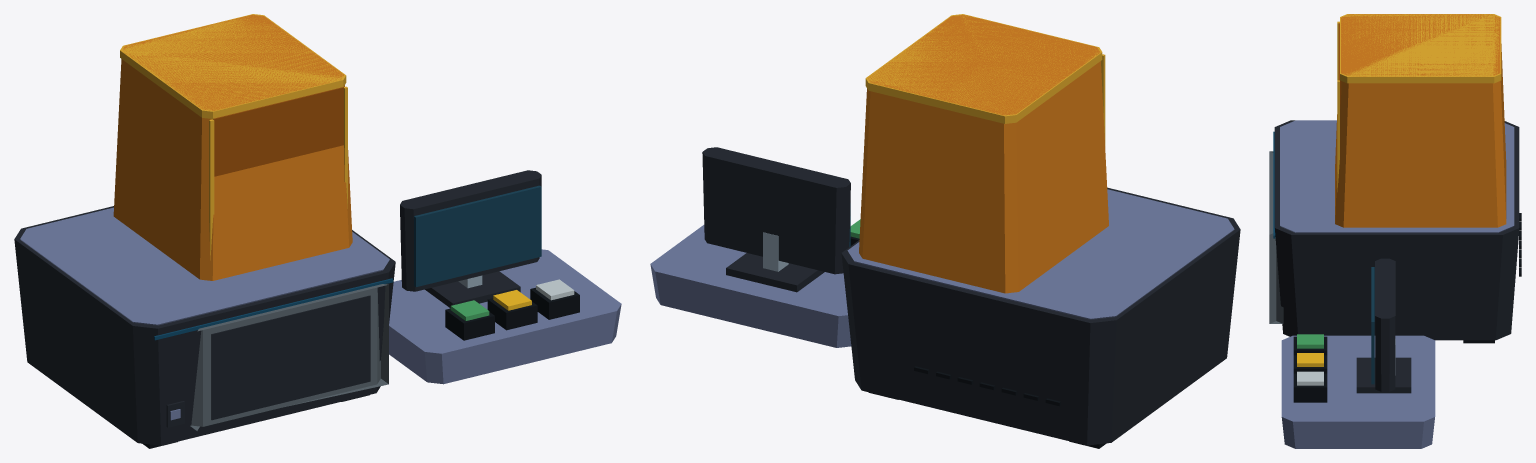
Rendered from cellink-lumen-x-gen3.glb.
3 views of the same model, side by side, from view 1: azimuth 30°, elevation 25°; view 2: azimuth 150°, elevation 25°; view 3: azimuth 270°, elevation 25° (orthographic). The views are drawn at different scales.
Visible parts, largest first — view 1: fixed_amber, base, inactive_fascia, desk, diagram_display, point_P-01, point_P-02, point_P-03; view 2: base, fixed_amber, desk, diagram_display; view 3: fixed_amber, base, desk, diagram_display, inactive_fascia, point_P-03, point_P-01, point_P-02.
Part boxes in pixels (x1=…): fixed_amber: x1=113, y1=14, x2=352, y2=280; base: x1=14, y1=206, x2=395, y2=445; inactive_fascia: x1=166, y1=283, x2=388, y2=430; desk: x1=389, y1=249, x2=621, y2=384; diagram_display: x1=400, y1=170, x2=541, y2=291; point_P-01: x1=445, y1=300, x2=494, y2=340; point_P-02: x1=487, y1=290, x2=537, y2=330; point_P-03: x1=530, y1=279, x2=579, y2=319; base: x1=841, y1=187, x2=1240, y2=445; fixed_amber: x1=859, y1=14, x2=1108, y2=293; desk: x1=650, y1=225, x2=851, y2=347; diagram_display: x1=702, y1=147, x2=850, y2=274; fixed_amber: x1=1335, y1=14, x2=1506, y2=227; base: x1=1273, y1=120, x2=1521, y2=340; desk: x1=1281, y1=335, x2=1435, y2=448; diagram_display: x1=1371, y1=258, x2=1395, y2=391; inactive_fascia: x1=1269, y1=151, x2=1283, y2=323; point_P-03: x1=1293, y1=371, x2=1327, y2=402; point_P-01: x1=1293, y1=334, x2=1327, y2=355; point_P-02: x1=1293, y1=353, x2=1327, y2=373.
Size of the model in its own units: 0.771 by 0.4505 by 0.385.
